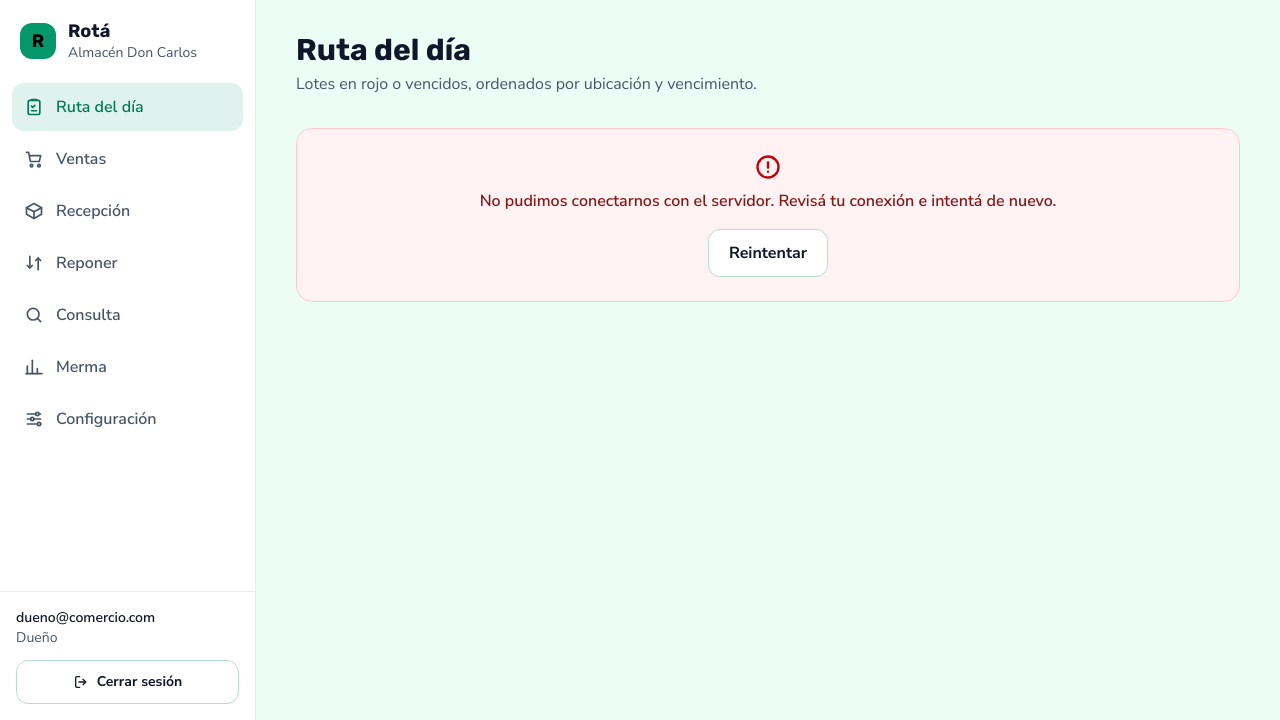
Test: sesión › borra el token al cerrar sesión
Click the button "Cerrar sesión": (128, 682) x1=16 y1=660 x2=239 y2=704
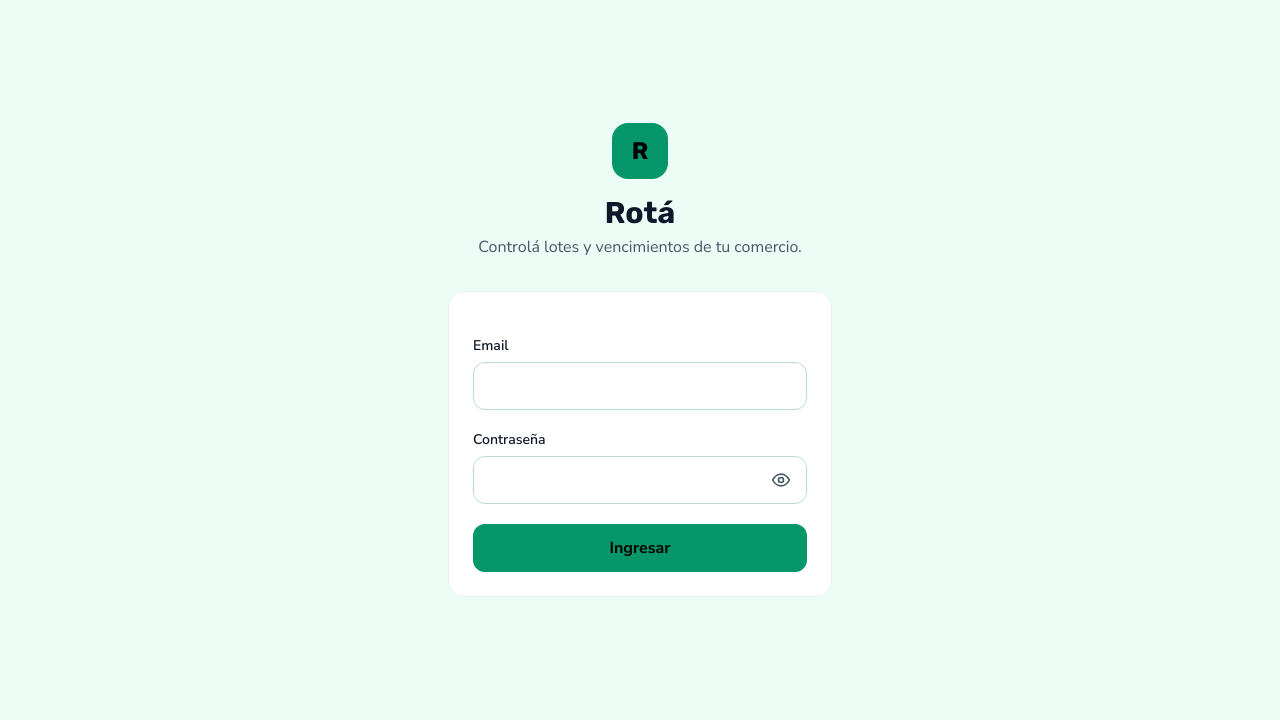
Check: the button "Ingresar" is shown, box x1=473 y1=524 x2=807 y2=572
